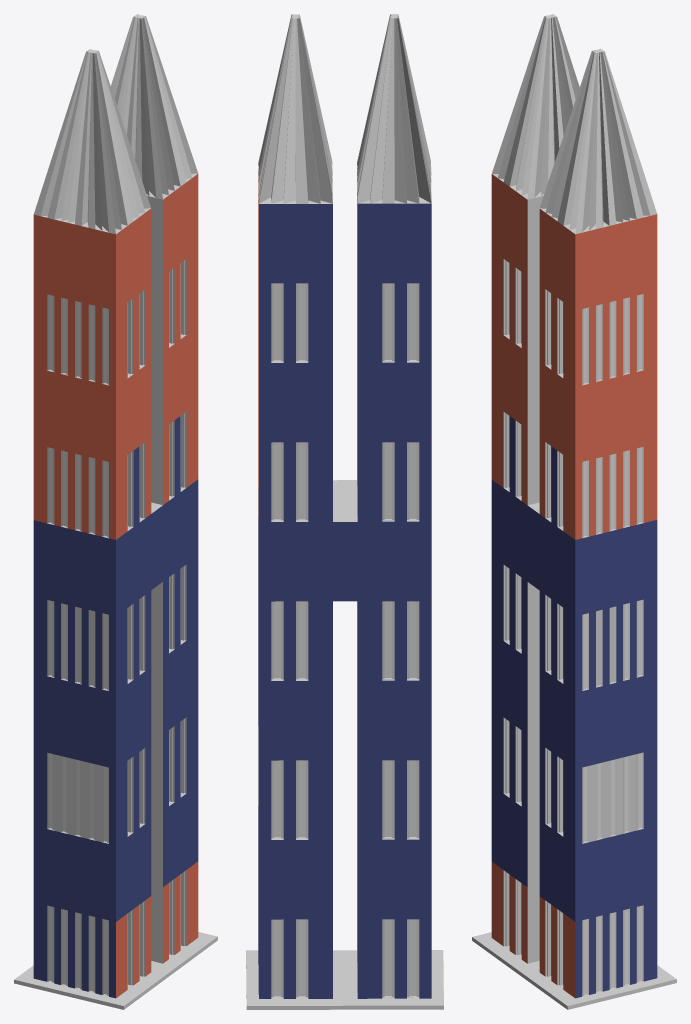
File: felipe_twin_towers.fbx
3 views of the same model, side by side, from view 1: azimuth 30°, elevation 25°; view 2: azimuth 150°, elevation 25°; view 3: azimuth 270°, elevation 25° (orthographic). The views are drawn at different scales.
Parts seen in each view (by area): view 1: Cube; view 2: Cube; view 3: Cube.
Part boxes in pixels (x1,y1,x2,y2): Cube: [14, 14, 217, 1009]; Cube: [246, 14, 443, 1009]; Cube: [472, 14, 676, 1009].
Bounding box in the file's own units: 216 × 972 × 194.
